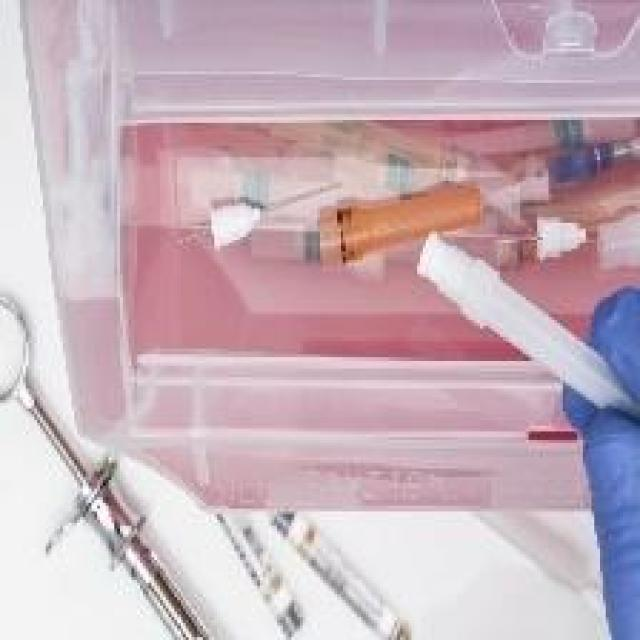syringe: (0, 343, 431, 640), (216, 124, 640, 312)
